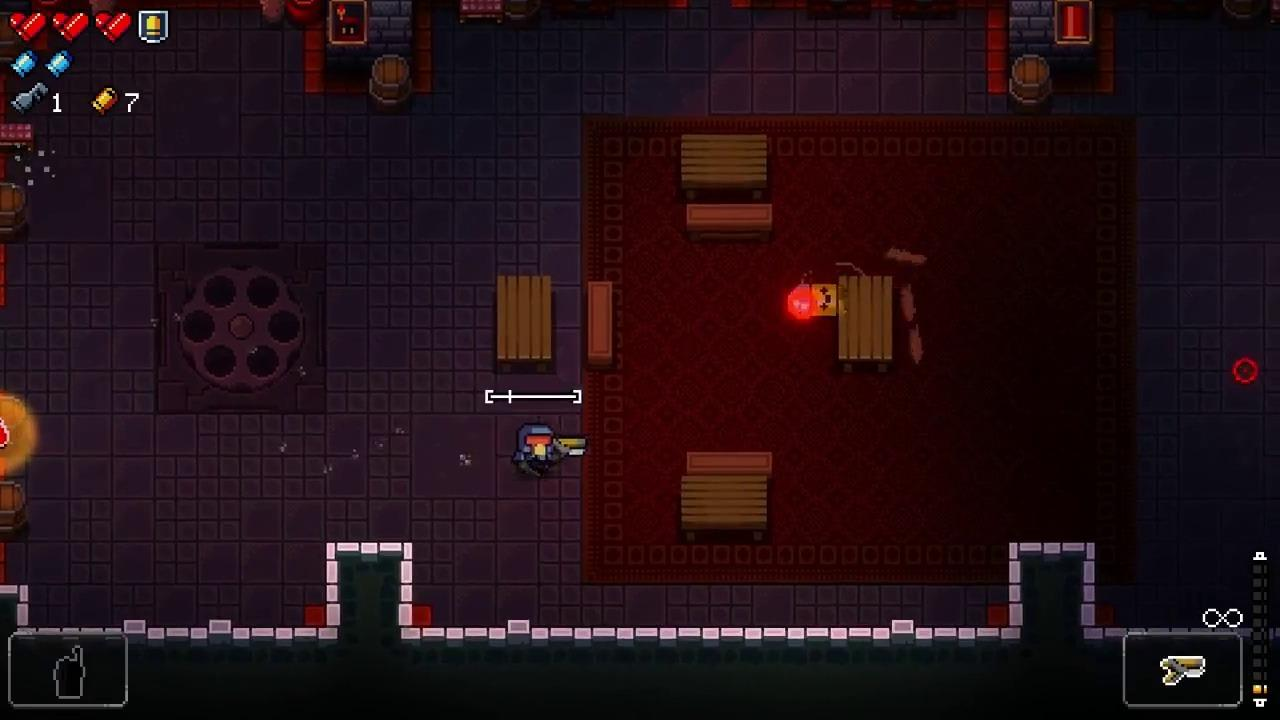dead_bullet_kin: (789, 281, 845, 318)
player: (515, 422, 557, 477)
table: (680, 134, 768, 202), (680, 476, 768, 541), (497, 276, 553, 374), (839, 276, 893, 374)
teleporter: (155, 241, 327, 414)
